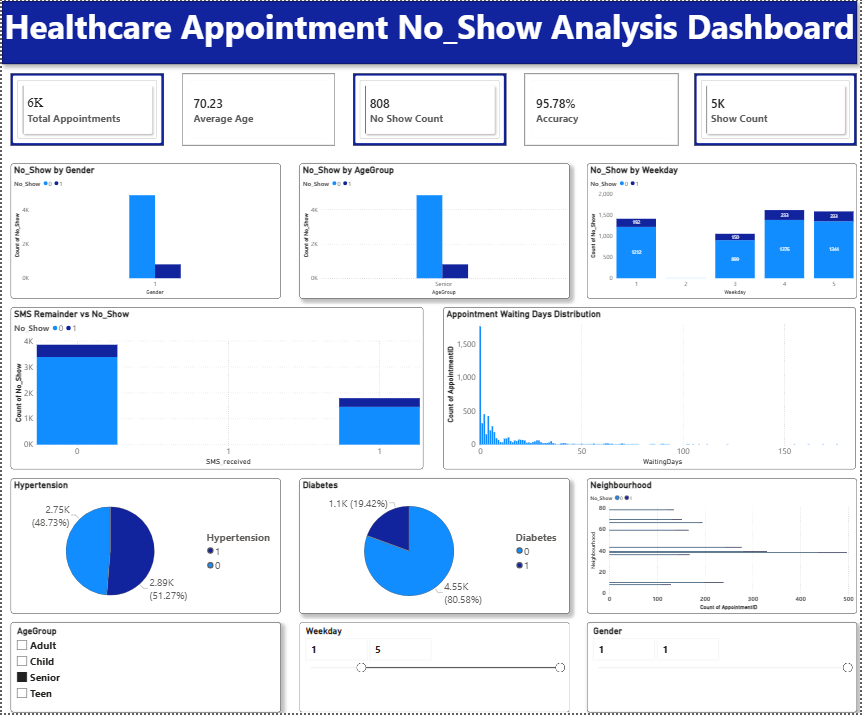

What the dashboard file says about the page in this screenshot:
{"tool":"powerbi","page":{"name":"Page 1","canvas":[2290,1900],"ordinal":0},"visuals":[{"type":"cardVisual","fields":{"Data":["Prediction.Total Appointments"]},"box":[24,192,408,192],"z":0},{"type":"cardVisual","fields":{"Data":["Prediction.No Show Count"]},"box":[936,192,408,192],"z":1000},{"type":"cardVisual","fields":{"Data":["Prediction.Show Count"]},"box":[1848,192,432,192],"z":2000},{"type":"cardVisual","fields":{"Data":["Prediction.Average Age"]},"box":[480,192,408,192],"z":3000},{"type":"cardVisual","fields":{"Data":["Prediction.Accuracy"]},"box":[1392,192,410,192],"z":4000},{"type":"clusteredColumnChart","title":"No_Show by Gender ","fields":{"Category":["Prediction.Gender"],"Y":["CountNonNull(Prediction.No_Show)"],"Series":["Prediction.No_Show"]},"box":[24,432,720,360],"z":5000},{"type":"clusteredColumnChart","title":"No_Show by AgeGroup ","fields":{"Category":["Prediction.AgeGroup"],"Y":["CountNonNull(Prediction.No_Show)"],"Series":["Prediction.No_Show"]},"box":[792,432,720,360],"z":6000},{"type":"columnChart","title":"No_Show by Weekday","fields":{"Category":["Prediction.Weekday"],"Y":["CountNonNull(Prediction.No_Show)"],"Series":["Prediction.No_Show"]},"box":[1560,432,720,360],"z":7000},{"type":"columnChart","title":"SMS Remainder vs No_Show","fields":{"Category":["Prediction.SMS_received"],"Y":["CountNonNull(Prediction.No_Show)"],"Series":["Prediction.No_Show"]},"box":[24,816,1100,432],"z":8000},{"type":"columnChart","title":"Appointment Waiting Days Distribution","fields":{"Category":["Prediction.WaitingDays"],"Y":["CountNonNull(Prediction.AppointmentID)"]},"box":[1176,816,1100,432],"z":9000},{"type":"pieChart","title":"Hypertension","fields":{"Category":["Prediction.Hypertension"],"Y":["CountNonNull(Prediction.AppointmentID)"]},"box":[24,1272,720,360],"z":10000},{"type":"pieChart","title":" Diabetes","fields":{"Category":["Prediction.Diabetes"],"Y":["CountNonNull(Prediction.AppointmentID)"]},"box":[792,1272,720,360],"z":11000},{"type":"barChart","title":"Neighbourhood","fields":{"Category":["Prediction.Neighbourhood"],"Y":["CountNonNull(Prediction.AppointmentID)"],"Series":["Prediction.No_Show"]},"box":[1560,1272,720,360],"z":12000},{"type":"slicer","fields":{"Values":["Prediction.Gender"]},"box":[1560,1656,720,240],"z":13000},{"type":"slicer","fields":{"Values":["Prediction.AgeGroup"]},"box":[24,1656,720,240],"z":14000},{"type":"slicer","fields":{"Values":["Prediction.Weekday"]},"box":[792,1656,720,240],"z":15000},{"type":"textbox","box":[0,0,2280,168],"z":16000}]}

Visuals, with their boxes in screenshot pixels (x1, y1, x2, y2), scaled from the page's 2290x1900 canvas onto the 867x720 screenshot:
cardVisual - Prediction.Total Appointments: left=9, top=73, right=164, bottom=146
cardVisual - Prediction.No Show Count: left=354, top=73, right=509, bottom=146
cardVisual - Prediction.Show Count: left=700, top=73, right=863, bottom=146
cardVisual - Prediction.Average Age: left=182, top=73, right=336, bottom=146
cardVisual - Prediction.Accuracy: left=527, top=73, right=682, bottom=146
"No_Show by Gender " clusteredColumnChart: left=9, top=164, right=282, bottom=300
"No_Show by AgeGroup " clusteredColumnChart: left=300, top=164, right=572, bottom=300
"No_Show by Weekday" columnChart: left=591, top=164, right=863, bottom=300
"SMS Remainder vs No_Show" columnChart: left=9, top=309, right=426, bottom=473
"Appointment Waiting Days Distribution" columnChart: left=445, top=309, right=862, bottom=473
"Hypertension" pieChart: left=9, top=482, right=282, bottom=618
" Diabetes" pieChart: left=300, top=482, right=572, bottom=618
"Neighbourhood" barChart: left=591, top=482, right=863, bottom=618
slicer - Prediction.Gender: left=591, top=628, right=863, bottom=718
slicer - Prediction.AgeGroup: left=9, top=628, right=282, bottom=718
slicer - Prediction.Weekday: left=300, top=628, right=572, bottom=718
textbox: left=0, top=0, right=863, bottom=64
